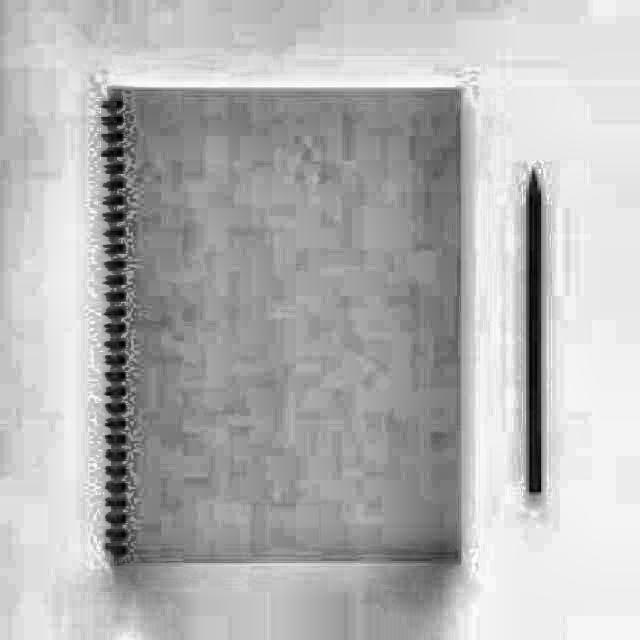Notebook: (103, 83, 466, 564)
